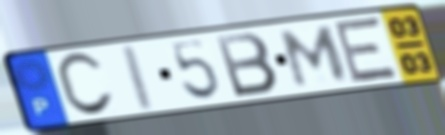5: (167, 37, 224, 102)
B: (212, 30, 281, 100)
C: (53, 50, 117, 119)
E: (332, 15, 401, 86)
I: (122, 42, 159, 115)
M: (279, 24, 352, 90)
